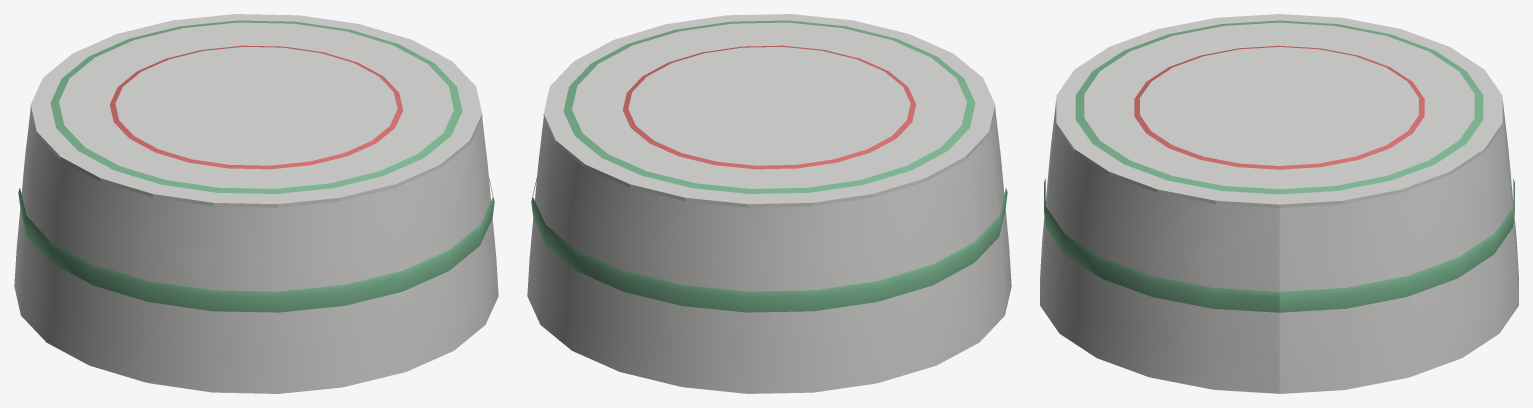
The picture shows the model from 3 angles, left to right: view 1: azimuth 30°, elevation 25°; view 2: azimuth 150°, elevation 25°; view 3: azimuth 270°, elevation 25°; orthographic projection.
Parts seen in each view (by area): view 1: round-banquet-table; view 2: round-banquet-table; view 3: round-banquet-table.
Boxes of the visible parts, left/top/right/bottom form: round-banquet-table: left=14, top=14, right=498, bottom=393; round-banquet-table: left=527, top=14, right=1011, bottom=393; round-banquet-table: left=1040, top=14, right=1518, bottom=393.
Size of the model in its own units: 1.72 by 0.777 by 1.7.
